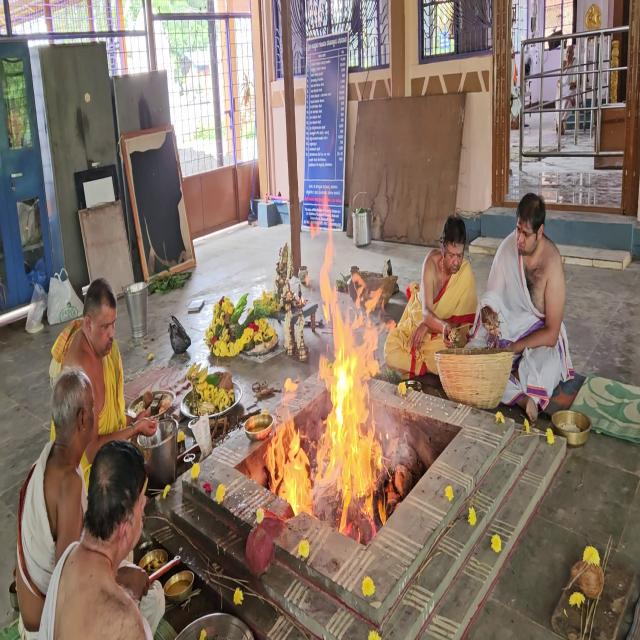fire: (251, 220, 405, 545)
